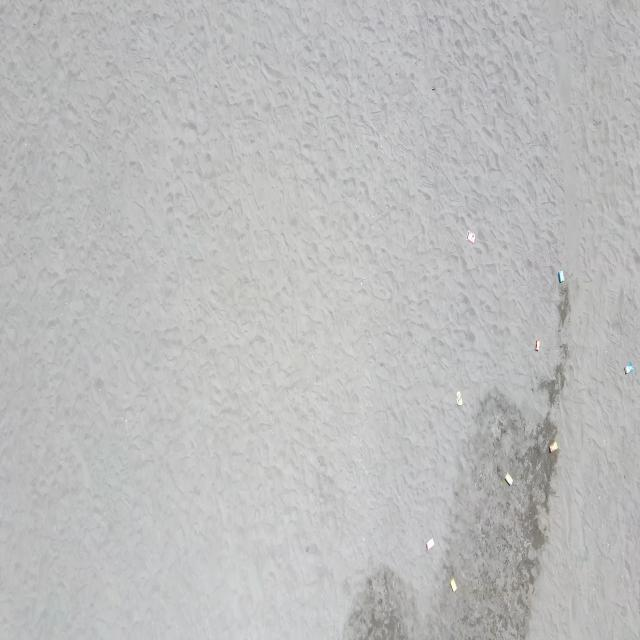Garbage: (548, 440, 557, 452), (449, 577, 456, 592), (467, 230, 475, 243), (504, 472, 512, 484), (455, 391, 462, 404), (557, 271, 564, 283), (427, 537, 433, 550), (624, 363, 632, 372), (535, 339, 540, 351)
